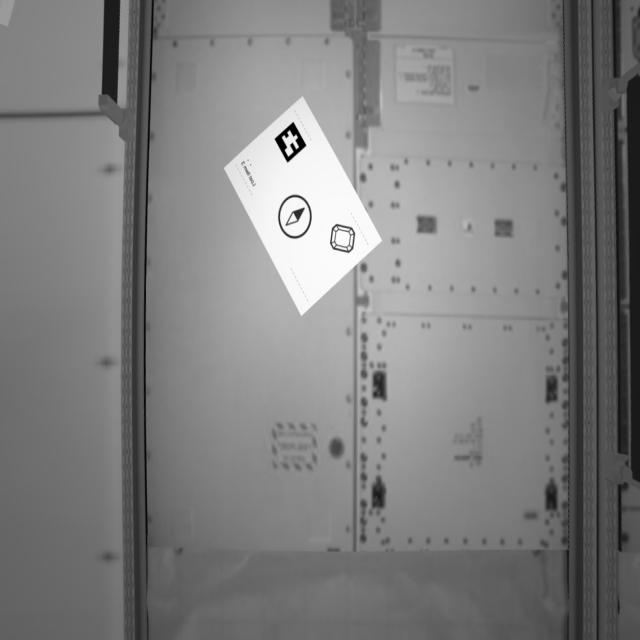compass: (276, 193, 317, 243)
emerald: (330, 221, 358, 255)
